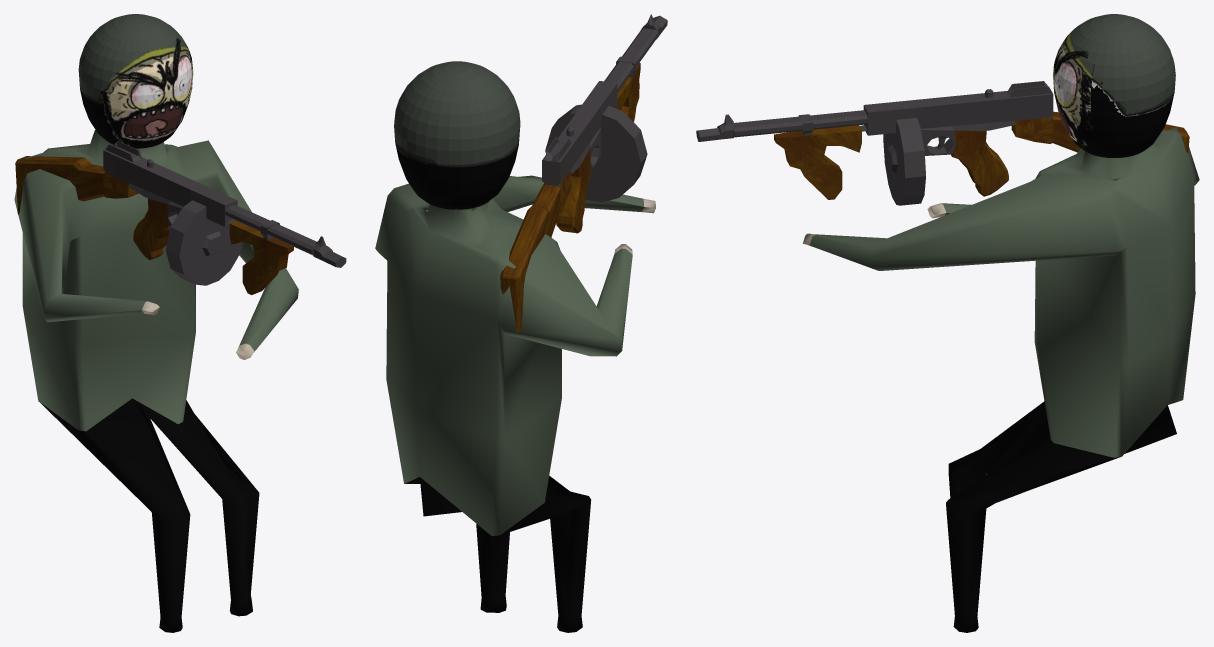
The model's file is Texbody.glb.
The picture shows the model from 3 angles, left to right: view 1: azimuth 30°, elevation 25°; view 2: azimuth 150°, elevation 25°; view 3: azimuth 270°, elevation 25°; orthographic projection. The views are drawn at different scales.
Visible parts, largest first — view 1: Cube, smg, head; view 2: Cube, smg, head; view 3: Cube, smg, head.
Boxes of the visible parts, x1,y1,x2,y2 form: Cube: (14,130,298,632); smg: (15,141,346,294); head: (78,14,193,148); Cube: (375,175,655,632); smg: (500,14,667,333); head: (394,61,520,209); Cube: (802,127,1199,632); smg: (696,81,1189,205); head: (1053,14,1175,157).
Bounding box in the file's own units: 3.87 × 10.56 × 8.18.
Materials: 8 (3 with a texture image).
